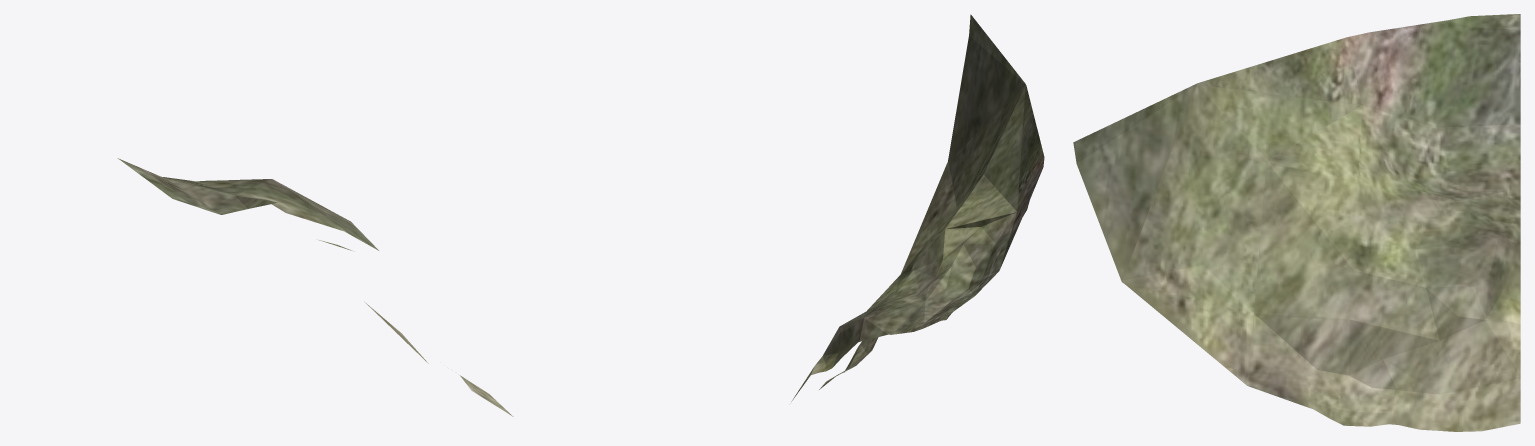
The picture shows the model from 3 angles, left to right: view 1: azimuth 30°, elevation 25°; view 2: azimuth 150°, elevation 25°; view 3: azimuth 270°, elevation 25°; orthographic projection. The views are drawn at different scales.
Bounding box in the file's own units: 5.91 × 6.21 × 8.7.
Materials: 1 (1 with a texture image).
